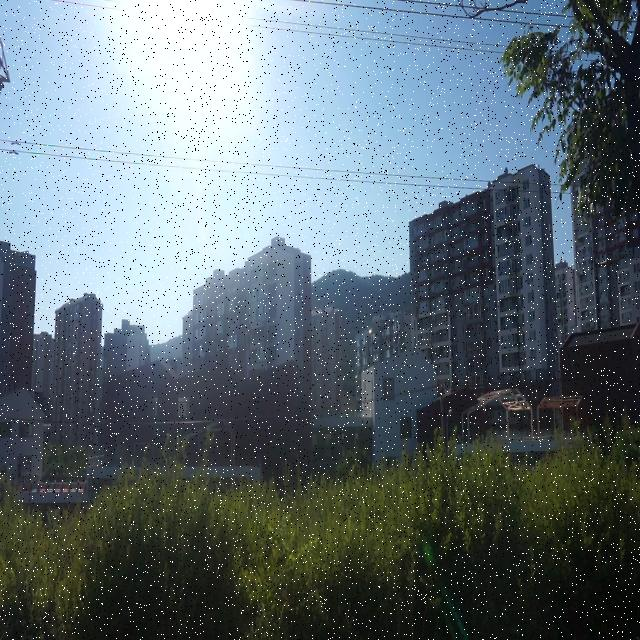UAV: (242, 332, 248, 336)
